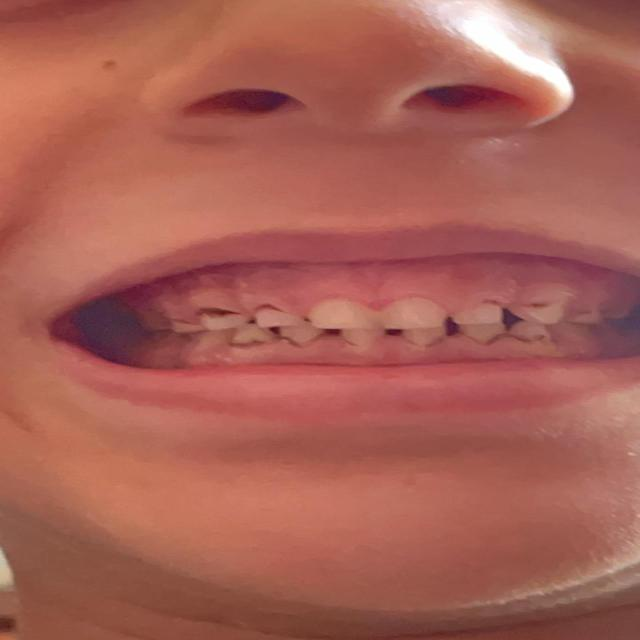tooth: (374, 303, 440, 325), (321, 306, 379, 326), (337, 328, 383, 346), (452, 308, 498, 325), (250, 308, 290, 327), (523, 306, 561, 324), (200, 312, 232, 330), (468, 324, 498, 342), (409, 328, 446, 342), (288, 329, 317, 344), (238, 330, 268, 344), (519, 327, 545, 343), (572, 316, 602, 328)
